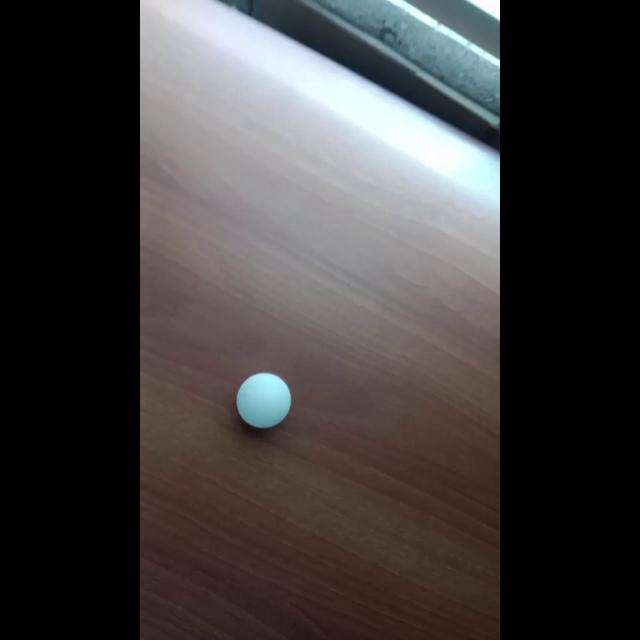white ball: (236, 372, 292, 428)
